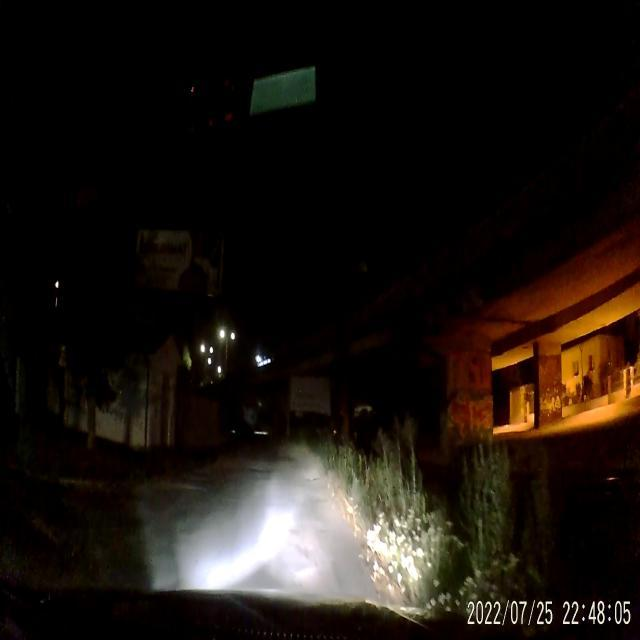Pothole: (300, 466, 323, 484)
